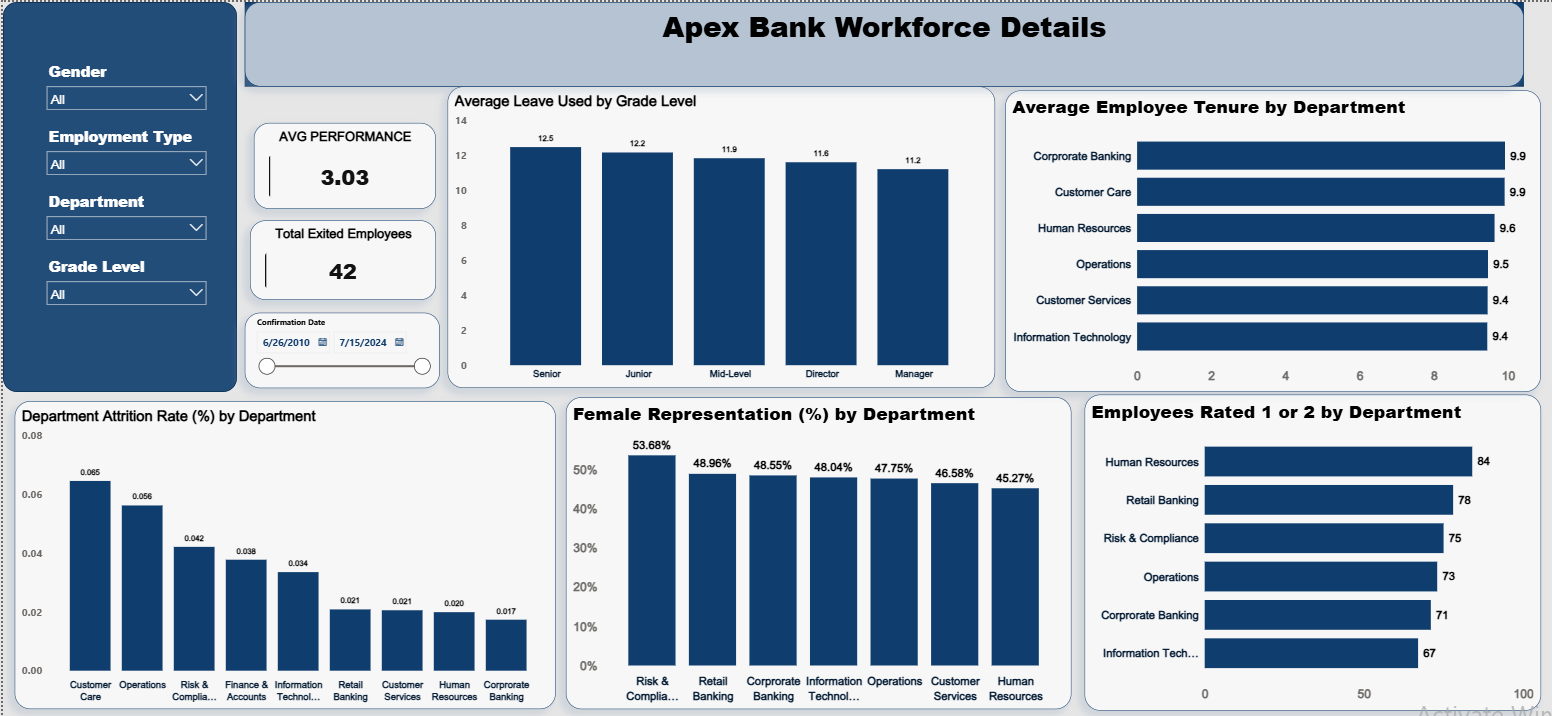

The dashboard page shown, as its layout file describes it:
{"tool":"powerbi","page":{"name":"Page 3","canvas":[2400,1100],"ordinal":1},"visuals":[{"type":"shape","box":[0,0,360,600],"z":0},{"type":"shape","box":[372,0,1968,130],"z":1000},{"type":"columnChart","fields":{"Y":["_measure.Average Leave Used"],"Category":["ApexBank_HR_Intermediate(Employee_Data).Grade_Level"]},"box":[684,130,842,464],"z":2000},{"type":"columnChart","fields":{"Y":["_measure.Department Attrition Rate (%)"],"Category":["ApexBank_HR_Intermediate(Employee_Data).Department_Updated"]},"box":[18,614,832,474],"z":3000},{"type":"cardVisual","title":"Total Exited Employees","fields":{"Data":["_measure.Total Exited Employees"]},"box":[380,336,286,122],"z":4000},{"type":"clusteredBarChart","fields":{"Category":["ApexBank_HR_Intermediate(Employee_Data).Department_Updated"],"Y":["_measure.Average Employee Tenure"]},"box":[1542,136,824,464],"z":5000},{"type":"barChart","title":"Employees Rated 1 or 2 by Department","fields":{"Category":["ApexBank_HR_Intermediate(Employee_Data).Department_Updated"],"Y":["_measure.Employees Rated 1 or 2"]},"box":[1664,604,702,486],"z":6000},{"type":"clusteredColumnChart","fields":{"Y":["_measure.Female Emloyees"],"Category":["ApexBank_HR_Intermediate(Employee_Data).Department_Updated"]},"box":[866,608,778,480],"z":7000},{"type":"textbox","box":[372,0,1968,130],"z":8000},{"type":"slicer","fields":{"Values":["ApexBank_HR_Intermediate(Employee_Data).Department_Updated"]},"box":[52,286,276,100],"z":9000},{"type":"slicer","fields":{"Values":["ApexBank_HR_Intermediate(Employee_Data).Gender_Updated"]},"box":[52,86,276,100],"z":10000},{"type":"slicer","fields":{"Values":["ApexBank_HR_Intermediate(Employee_Data).Employment_Type_Updated"]},"box":[52,186,276,100],"z":11000},{"type":"slicer","fields":{"Values":["ApexBank_HR_Intermediate(Employee_Data).Grade_Level"]},"box":[52,386,276,100],"z":12000},{"type":"slicer","fields":{"Values":["ApexBank_HR_Intermediate(Employee_Data).Confirmation_Date_Updated"]},"box":[372,478,300,116],"z":13000},{"type":"cardVisual","title":"AVG PERFORMANCE","fields":{"Data":["_measure.Average Performance Rating"]},"box":[386,186,280,132],"z":14000}]}

Visuals, with their boxes in screenshot pixels (x1, y1, x2, y2), scaled from the page's 2400x1100 canvas onto the 1552x716 screenshot:
shape: Rect(0, 0, 233, 391)
shape: Rect(241, 0, 1513, 85)
columnChart - _measure.Average Leave Used x ApexBank_HR_Intermediate(Employee_Data).Grade_Level: Rect(442, 85, 987, 387)
columnChart - _measure.Department Attrition Rate (%) x ApexBank_HR_Intermediate(Employee_Data).Department_Updated: Rect(12, 400, 550, 708)
"Total Exited Employees" cardVisual: Rect(246, 219, 431, 298)
clusteredBarChart - ApexBank_HR_Intermediate(Employee_Data).Department_Updated x _measure.Average Employee Tenure: Rect(997, 89, 1530, 391)
"Employees Rated 1 or 2 by Department" barChart: Rect(1076, 393, 1530, 709)
clusteredColumnChart - _measure.Female Emloyees x ApexBank_HR_Intermediate(Employee_Data).Department_Updated: Rect(560, 396, 1063, 708)
textbox: Rect(241, 0, 1513, 85)
slicer - ApexBank_HR_Intermediate(Employee_Data).Department_Updated: Rect(34, 186, 212, 251)
slicer - ApexBank_HR_Intermediate(Employee_Data).Gender_Updated: Rect(34, 56, 212, 121)
slicer - ApexBank_HR_Intermediate(Employee_Data).Employment_Type_Updated: Rect(34, 121, 212, 186)
slicer - ApexBank_HR_Intermediate(Employee_Data).Grade_Level: Rect(34, 251, 212, 316)
slicer - ApexBank_HR_Intermediate(Employee_Data).Confirmation_Date_Updated: Rect(241, 311, 435, 387)
"AVG PERFORMANCE" cardVisual: Rect(250, 121, 431, 207)
